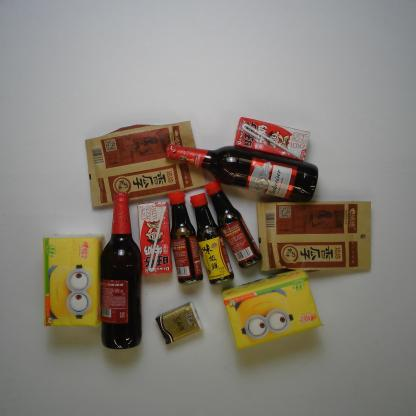Alcohol: (164, 144, 320, 202), (99, 190, 145, 350)
Dried Food: (84, 119, 205, 210), (255, 191, 374, 277)
Milk: (233, 114, 312, 164), (136, 201, 174, 277)
Seasoner: (202, 177, 264, 274), (186, 191, 237, 286), (163, 186, 207, 286)
Tissue: (220, 269, 325, 351), (41, 232, 107, 329), (154, 300, 204, 346)
